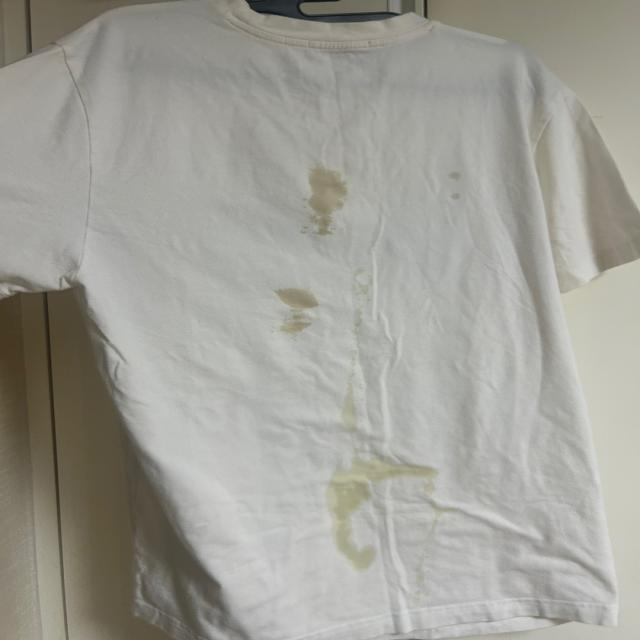stain: (315, 452, 447, 486), (297, 167, 358, 236), (324, 374, 368, 431), (275, 288, 321, 341), (446, 161, 478, 206), (342, 272, 379, 303)
